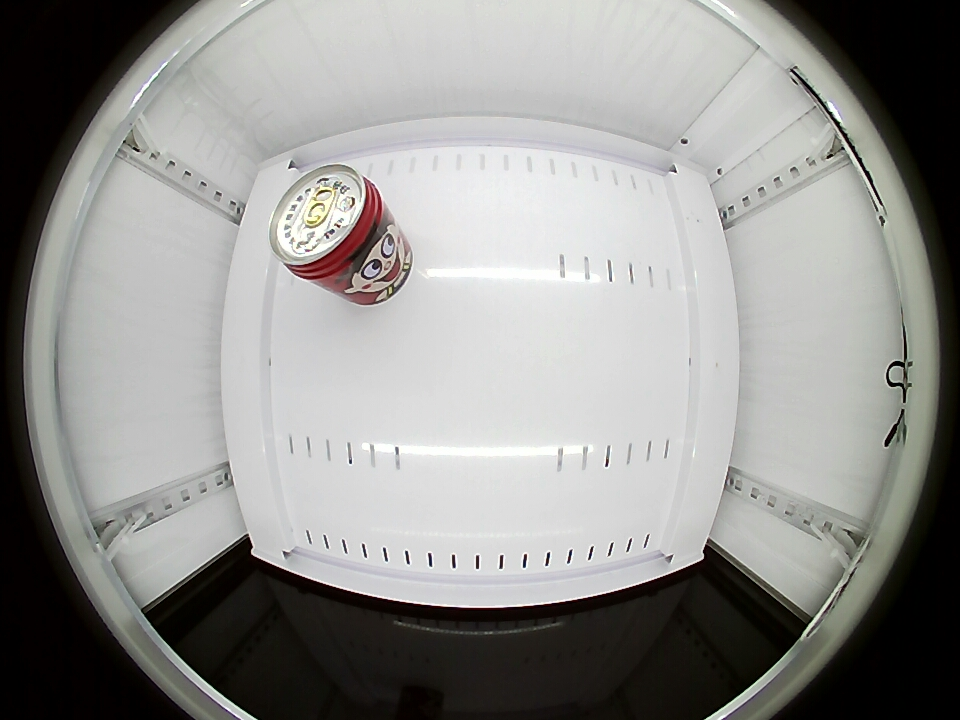wangzainiunai: (269, 163, 392, 292)
